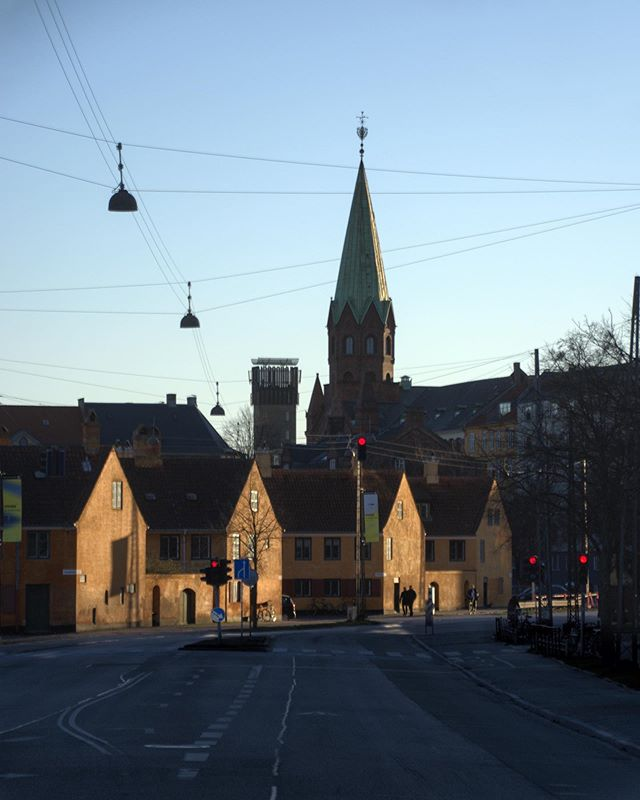building: (325, 115, 408, 436), (133, 460, 283, 636), (1, 446, 136, 636), (278, 456, 423, 613), (322, 375, 539, 464), (417, 472, 518, 607)
sky: (3, 1, 640, 397)
street: (1, 632, 573, 800)
